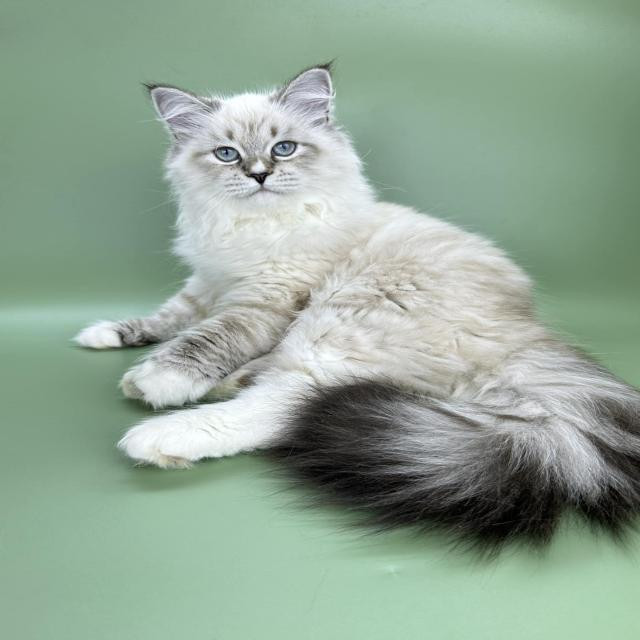Neva Masquerade: (69, 55, 640, 555)
